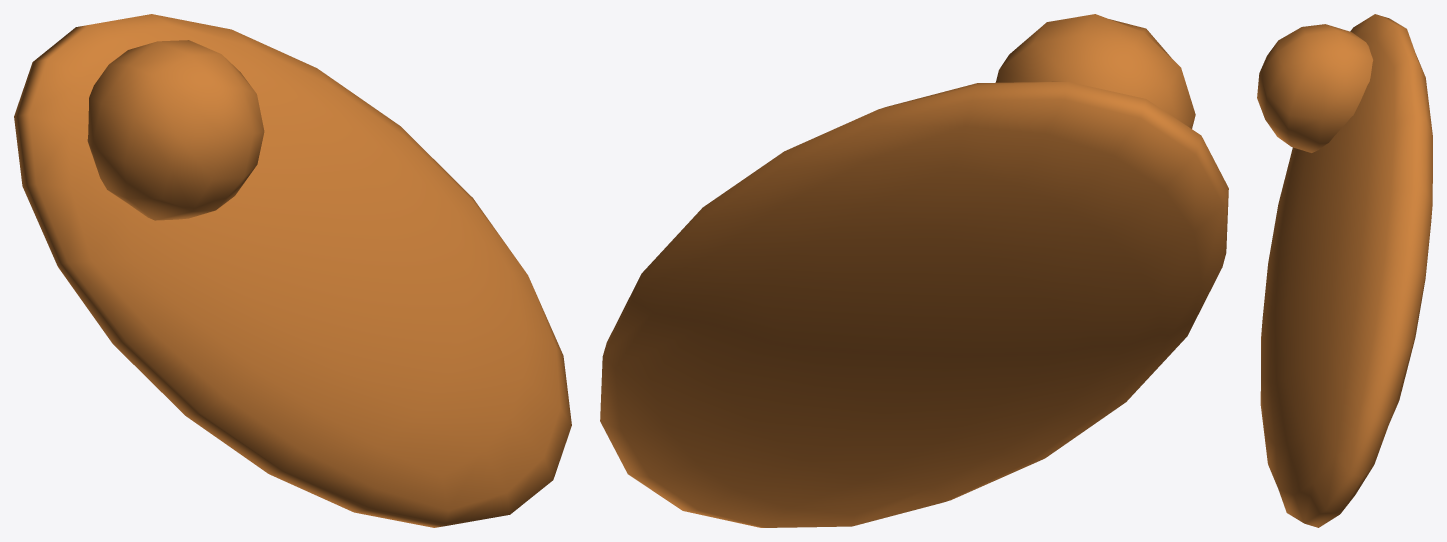
The model's file is antenna_right_frons.obj.
3 renders of one model, left to right at view 1: azimuth 30°, elevation 25°; view 2: azimuth 150°, elevation 25°; view 3: azimuth 270°, elevation 25°, orthographic. The views are drawn at different scales.
Size of the model in its own units: 0.0238 by 0.0222 by 0.00936.
